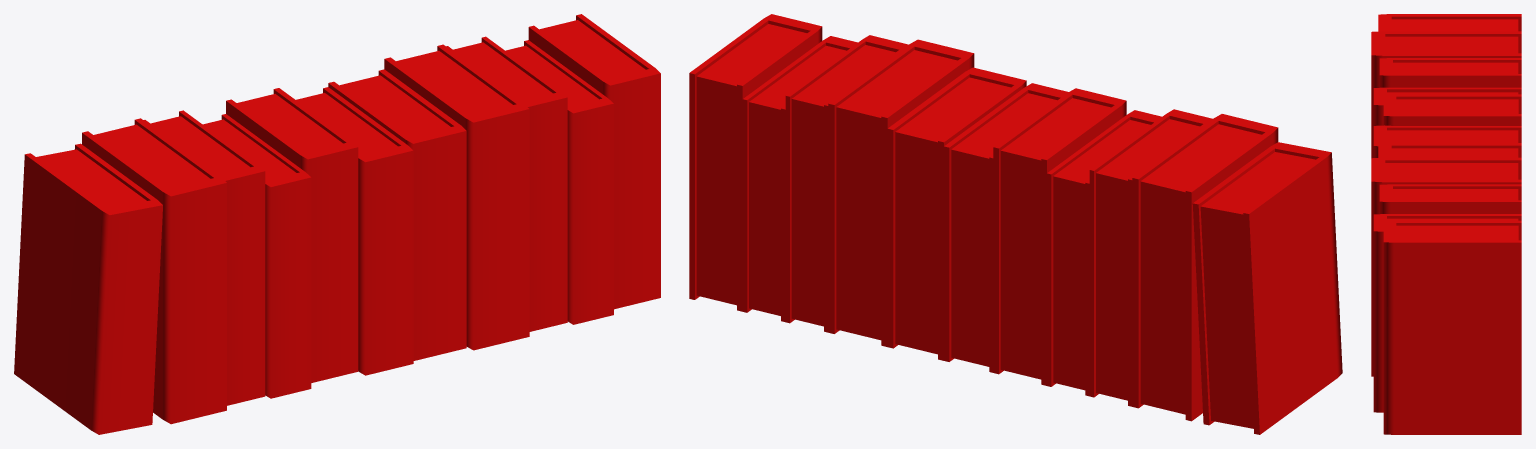
File: BookSet_Large.fbx
3 views of the same model, side by side, from view 1: azimuth 30°, elevation 25°; view 2: azimuth 150°, elevation 25°; view 3: azimuth 270°, elevation 25° (orthographic). The views are drawn at different scales.
Visible parts, largest first — view 1: BookSet_02; view 2: BookSet_02; view 3: BookSet_02.
Boxes of the visible parts, bbox=[...] form: BookSet_02: bbox=[14, 14, 660, 434]; BookSet_02: bbox=[689, 14, 1342, 434]; BookSet_02: bbox=[1371, 14, 1521, 434].
Size of the model in its own units: 21.06 by 8.08 by 5.63.
